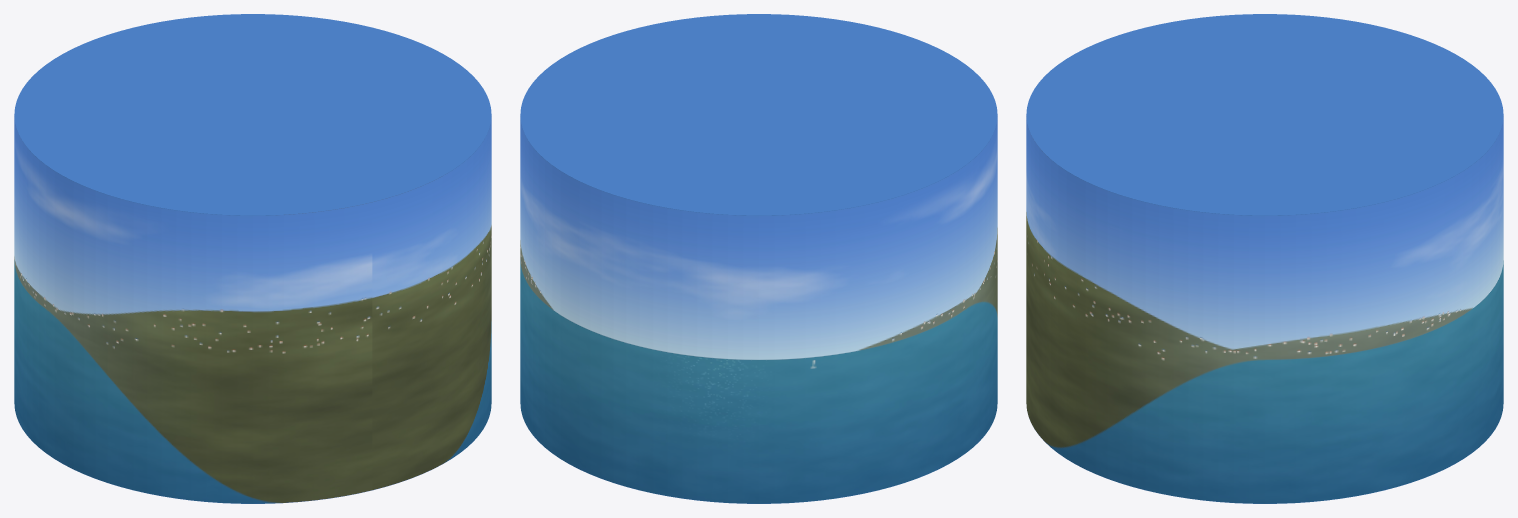
Rendered from villa_terrace.glb.
3 views of the same model, side by side, from view 1: azimuth 30°, elevation 25°; view 2: azimuth 150°, elevation 25°; view 3: azimuth 270°, elevation 25° (orthographic).
Visible parts, largest first — view 1: bay_view; view 2: bay_view; view 3: bay_view.
Part boxes in pixels (x1,y1,x2,y2): bay_view: [14, 14, 491, 503]; bay_view: [520, 14, 997, 503]; bay_view: [1026, 14, 1503, 503].
Size of the model in its own units: 60 by 40 by 60.
Materials: 14 (5 with a texture image).
